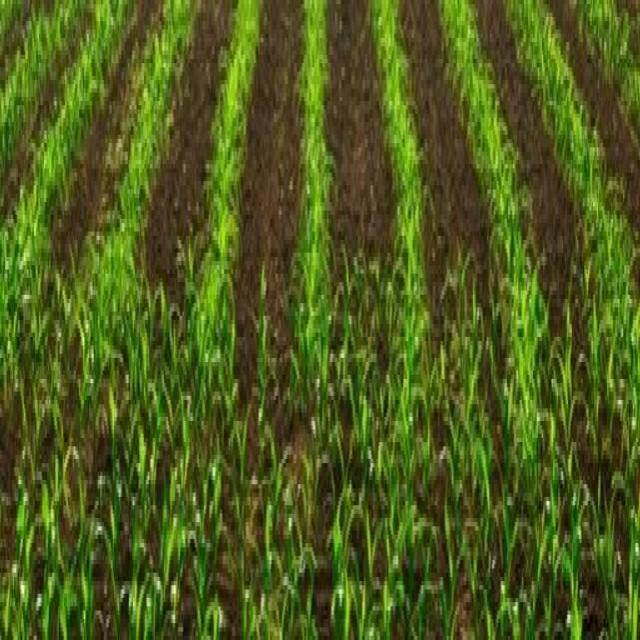row: (0, 0, 167, 595), (477, 1, 614, 383), (400, 0, 518, 352), (128, 0, 236, 341), (221, 0, 307, 381), (551, 1, 640, 319), (328, 1, 407, 359), (0, 1, 101, 242), (0, 6, 55, 105), (619, 0, 640, 71)
